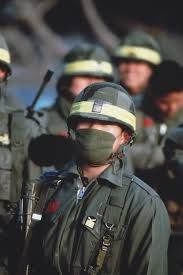no-mask: (113, 50, 152, 92), (154, 86, 183, 120)
with-mask: (68, 90, 137, 172)
